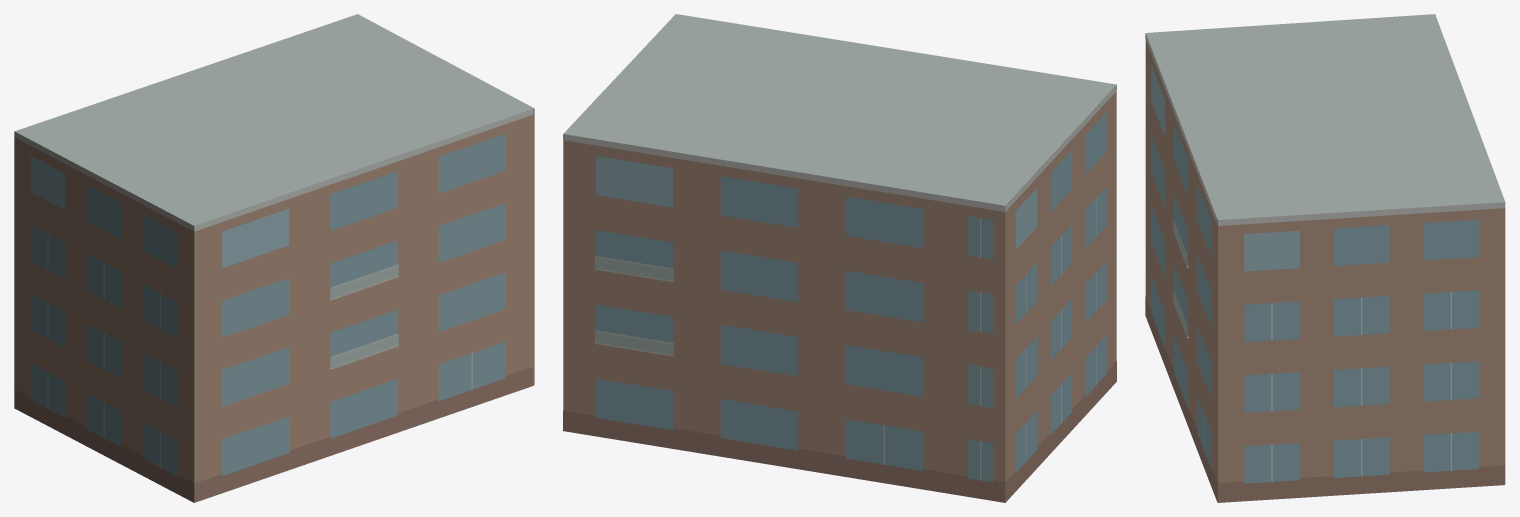
Rendered from survey-upis-32527430.glb.
3 views of the same model, side by side, from view 1: azimuth 30°, elevation 25°; view 2: azimuth 150°, elevation 25°; view 3: azimuth 270°, elevation 25° (orthographic). The views are drawn at different scales.
Parts seen in each view (by area): view 1: survey-upis-32527430.tmp; view 2: survey-upis-32527430.tmp; view 3: survey-upis-32527430.tmp.
Boxes of the visible parts, x1,y1,x2,y2 form: survey-upis-32527430.tmp: (14, 14, 534, 502); survey-upis-32527430.tmp: (563, 14, 1116, 502); survey-upis-32527430.tmp: (1145, 14, 1505, 502).
Bounding box in the file's own units: 18.3 × 11.7 × 13.51.
